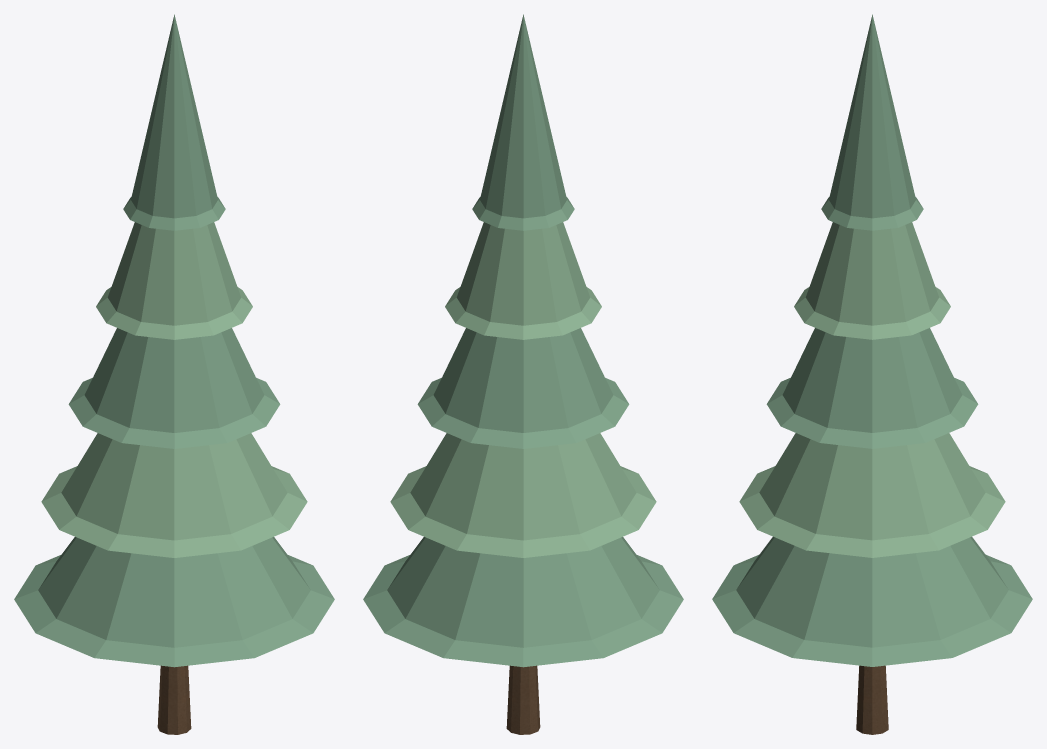
File: pine.glb
3 renders of one model, left to right at view 1: azimuth 30°, elevation 25°; view 2: azimuth 150°, elevation 25°; view 3: azimuth 270°, elevation 25°, orthographic.
Parts seen in each view (by area): view 1: pine_pine, pine_pine2, pine_bark; view 2: pine_pine, pine_pine2, pine_bark; view 3: pine_pine, pine_pine2, pine_bark.
Part boxes in pixels (bbox=[...]): pine_pine: bbox=[14, 14, 334, 667]; pine_pine2: bbox=[41, 222, 307, 557]; pine_bark: bbox=[157, 665, 191, 734]; pine_pine: bbox=[363, 14, 683, 667]; pine_pine2: bbox=[390, 222, 656, 557]; pine_bark: bbox=[506, 665, 540, 734]; pine_pine: bbox=[712, 14, 1032, 666]; pine_pine2: bbox=[739, 222, 1005, 557]; pine_bark: bbox=[856, 665, 888, 734].
Size of the model in its own units: 3.8 by 9.33 by 3.8.
Materials: 3 (1 with a texture image).
